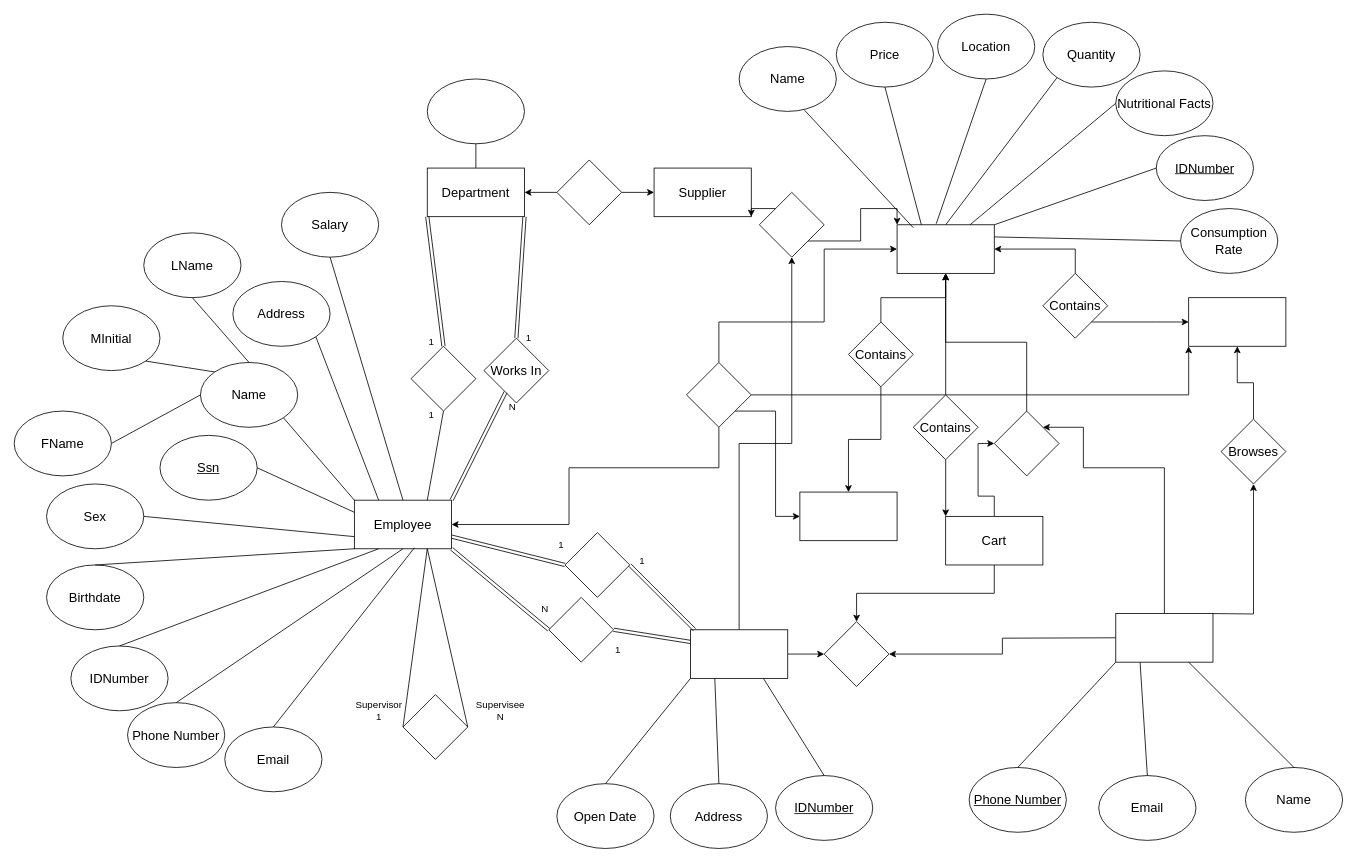
The diagram is 1357 pixels wide and 863 high, and some of its shapes have lost their labels. Each missing label, with the centre of its shape:
"Adds" belongs at point (1026, 443).
"Customer" belongs at point (1164, 637).
"DepID" belongs at point (475, 111).
"Inventory" belongs at point (848, 516).
"Leads" belongs at point (597, 564).
"Manages" belongs at point (443, 378).
"Moves To/From" belongs at point (718, 394).
"Orders From" belongs at point (589, 192).
"Product" belongs at point (945, 248).
"Purchases" belongs at point (856, 653).
"Shelves" belongs at point (1237, 321).
"Store" belongs at point (739, 653).
"Supervision" belongs at point (435, 726).
"Supplies" belongs at point (791, 224).
"Works At" belongs at point (581, 629).
